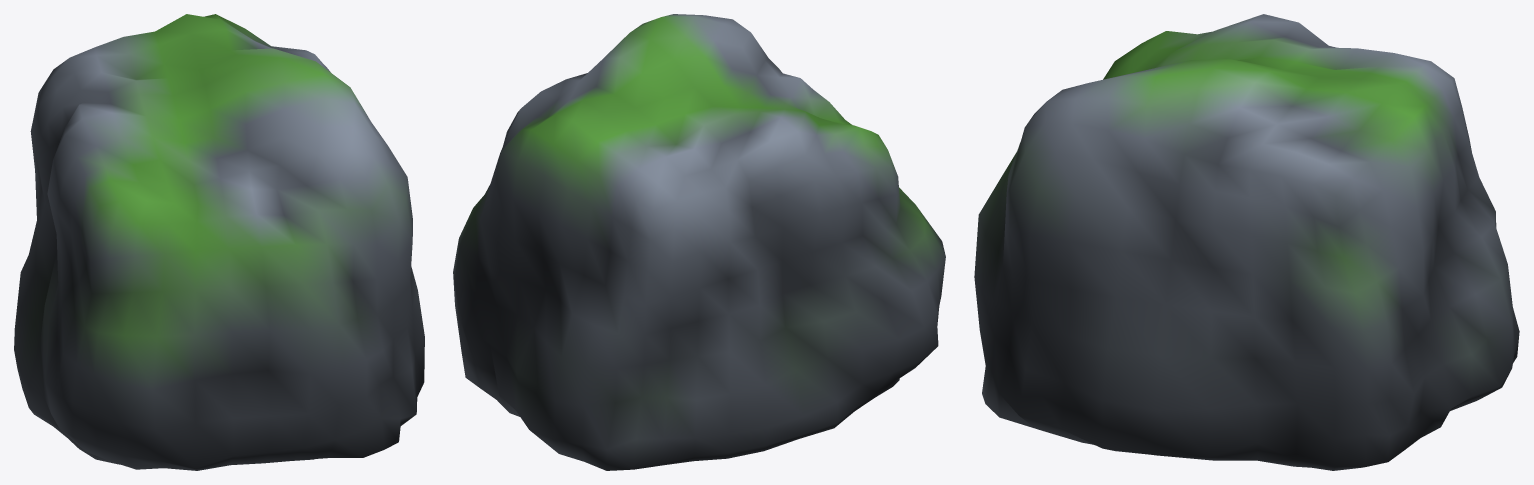
Rendered from stone.glb.
3 renders of one model, left to right at view 1: azimuth 30°, elevation 25°; view 2: azimuth 150°, elevation 25°; view 3: azimuth 270°, elevation 25°, orthographic. The views are drawn at different scales.
Visible parts, largest first — view 1: stone-large-a; view 2: stone-large-a; view 3: stone-large-a.
Part boxes in pixels (box(x1,y1,x2,y2)): stone-large-a: box(14, 14, 424, 470); stone-large-a: box(453, 14, 945, 470); stone-large-a: box(974, 14, 1519, 470).
Size of the model in its own units: 3.42 by 2.85 by 3.92.
